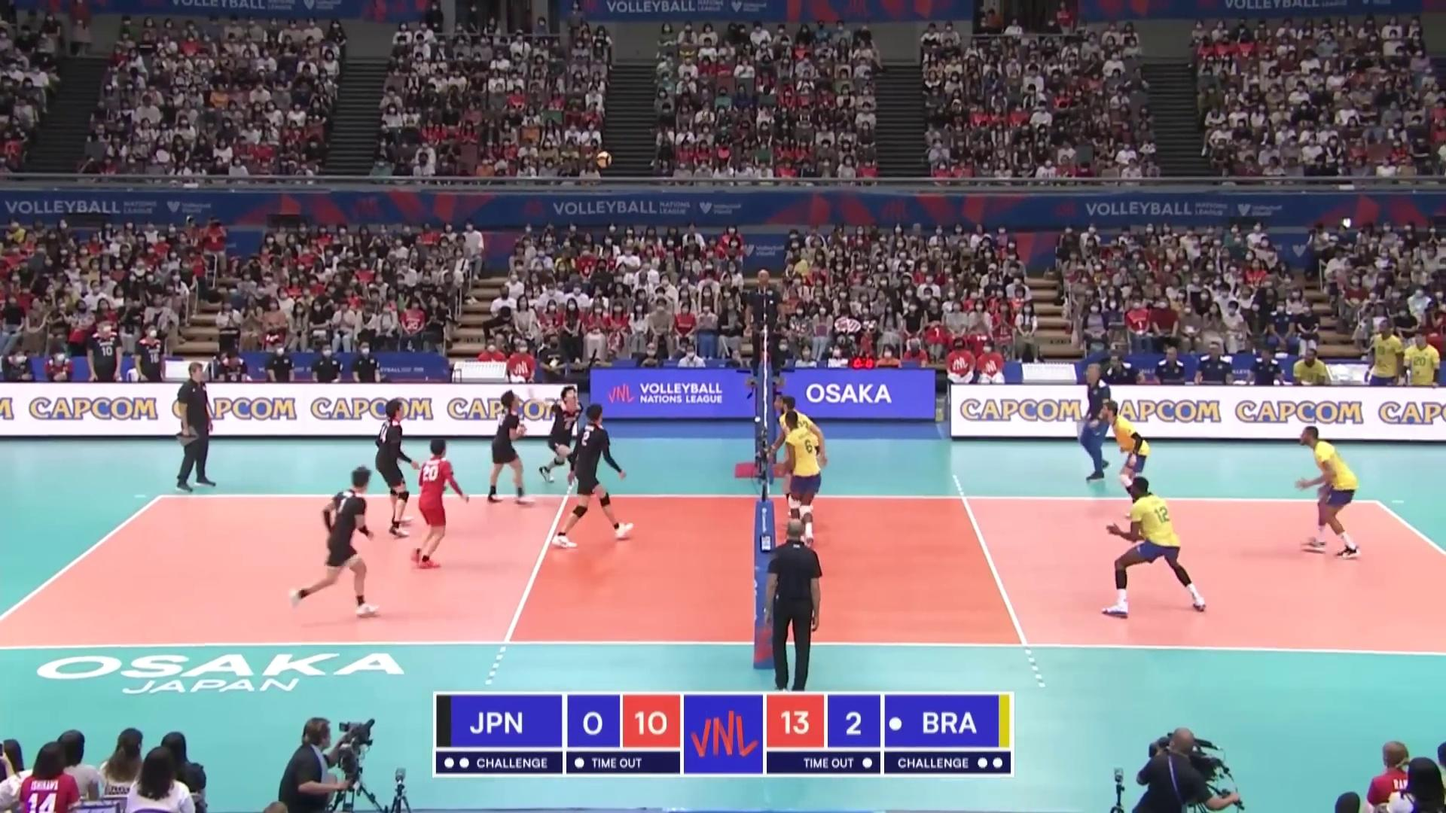player: (1100, 478, 1208, 617), (287, 467, 379, 613), (555, 403, 637, 550), (1296, 426, 1359, 559), (410, 439, 470, 569), (371, 402, 419, 537), (778, 397, 827, 523), (1100, 402, 1151, 516), (781, 412, 822, 544), (487, 391, 533, 505), (541, 385, 586, 492)
refree: (763, 522, 823, 690), (745, 269, 785, 387)
